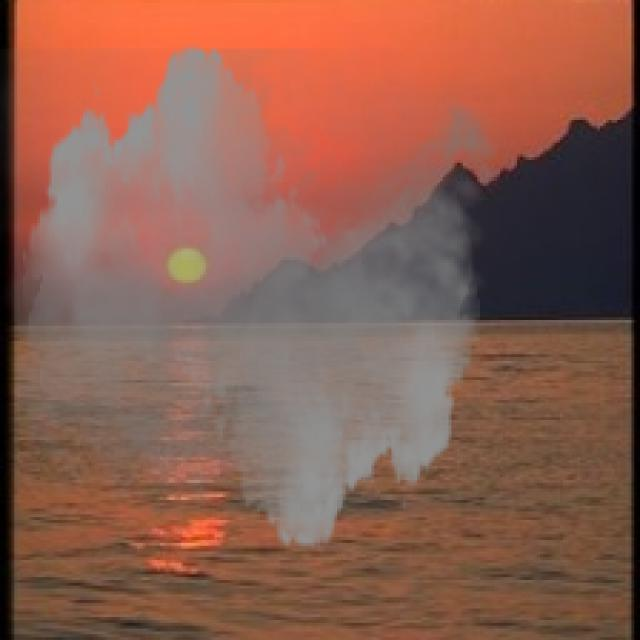Smoke: (0, 28, 515, 566)
